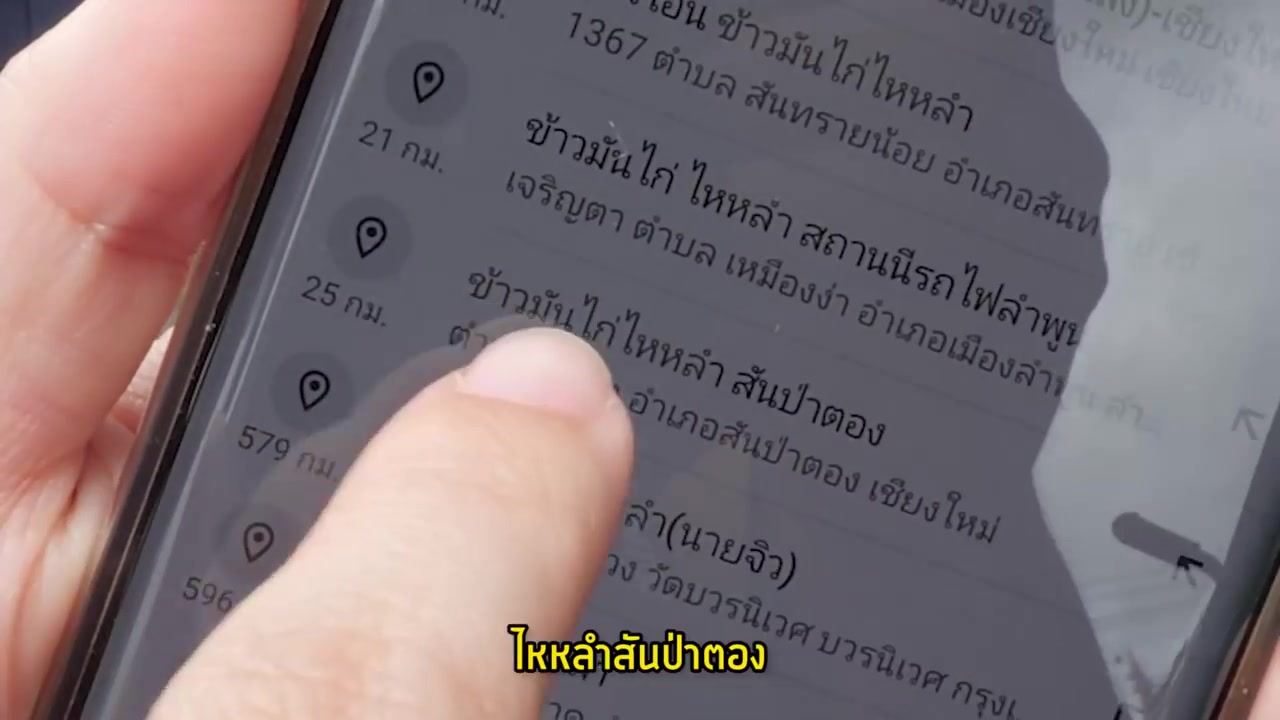text-label: (504, 618, 772, 678)
